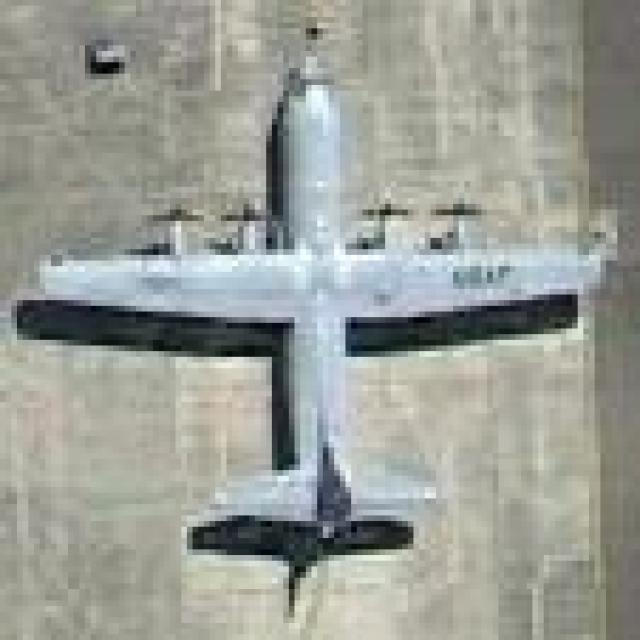C-130_TopDown: (18, 41, 594, 611)
